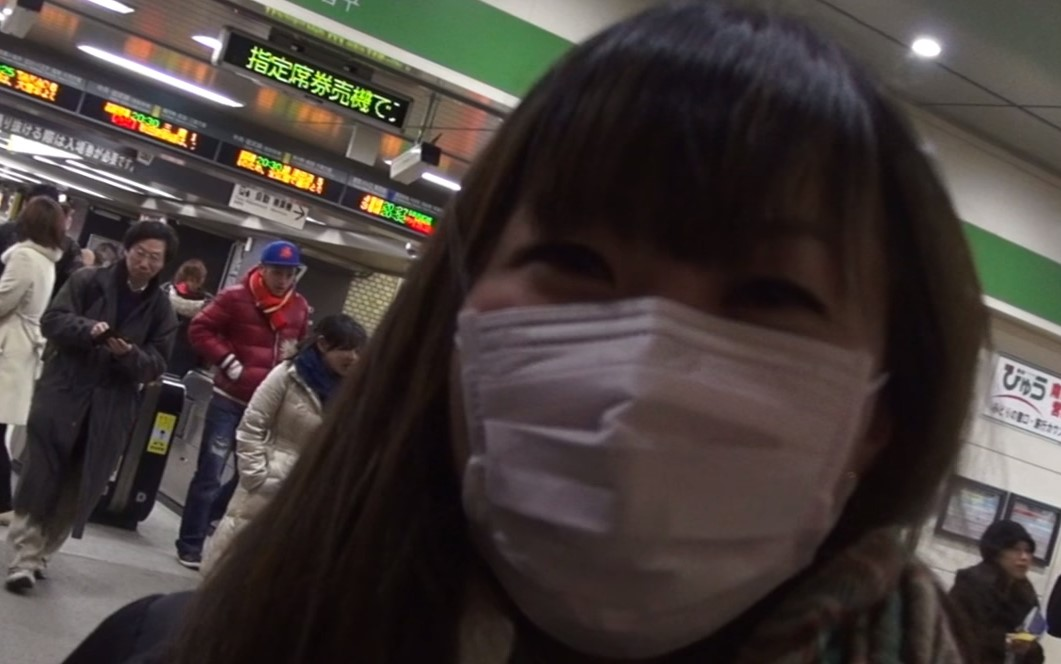face_no_mask: (123, 217, 175, 283), (312, 310, 364, 376)
face_with_mask: (454, 23, 974, 662)
